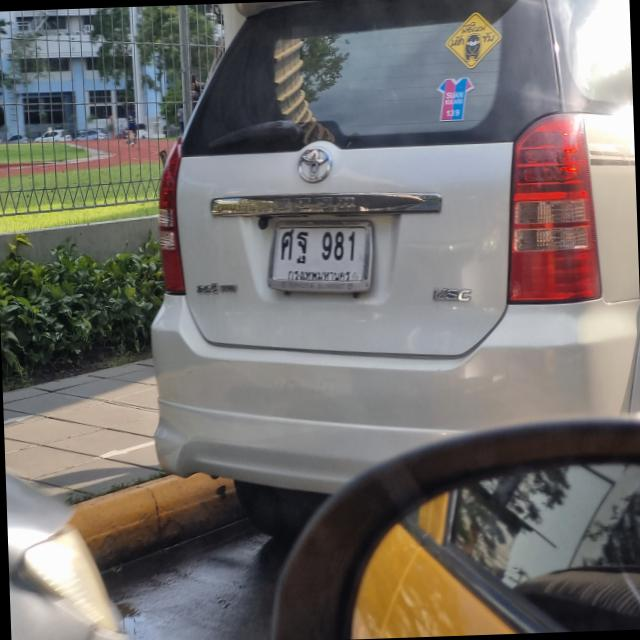license_plate: (266, 210, 373, 298)
